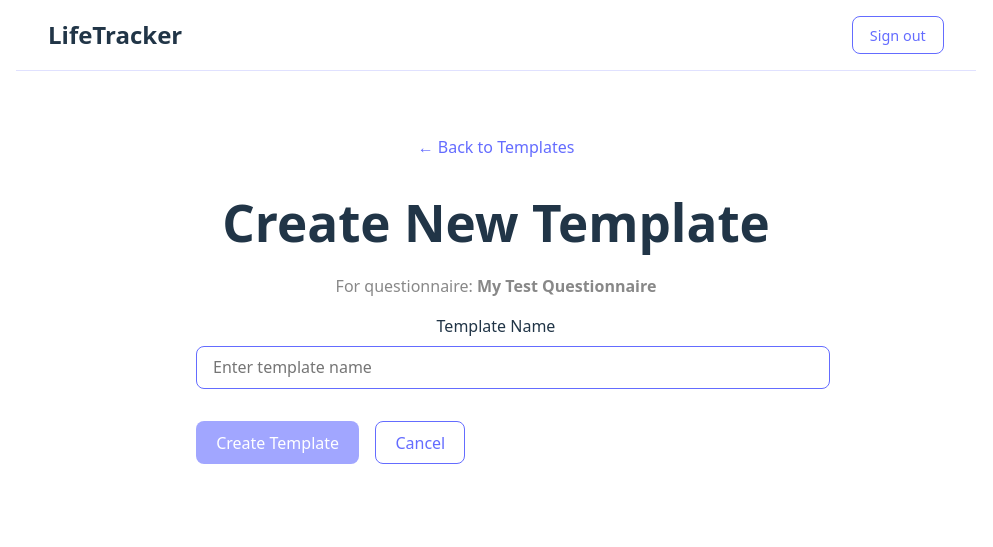
TemplateCreate › displays generic error message when API throws non-Error
In the field labelled "Template Name": (513, 368) 196,346 -> 830,389, type "My Test Template"
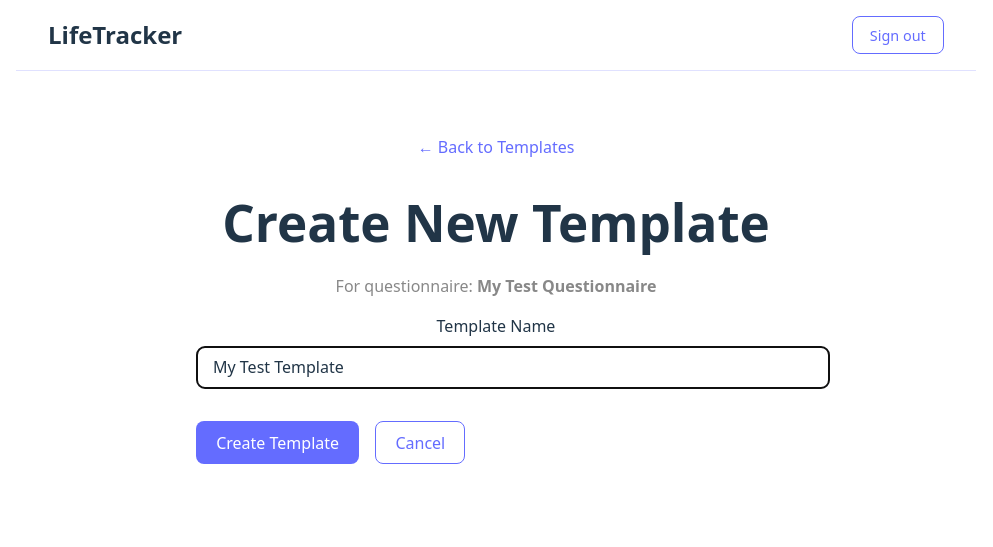
Click the button "Create Template": (278, 443) 196,421 -> 359,464
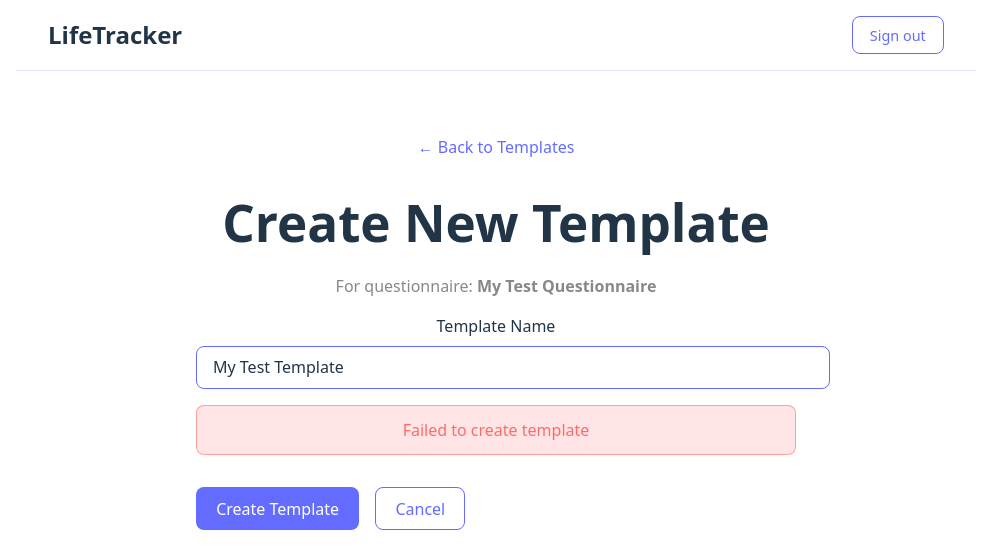
Check: the text "Failed to create template" is shown, box 196,405 -> 796,455
